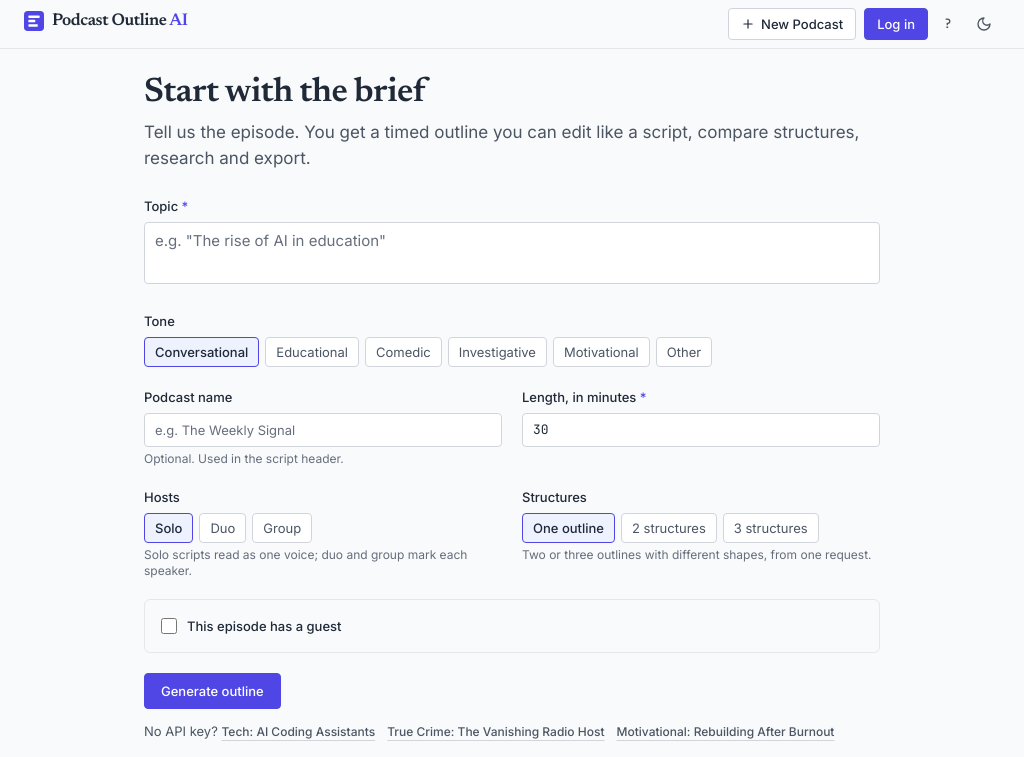
Test: + New Podcast: unsaved changes › Escape also cancels
Step 1. Type "Future of AI" into the text box labelled "Topic *" → (512, 253), box [144,222,880,284]
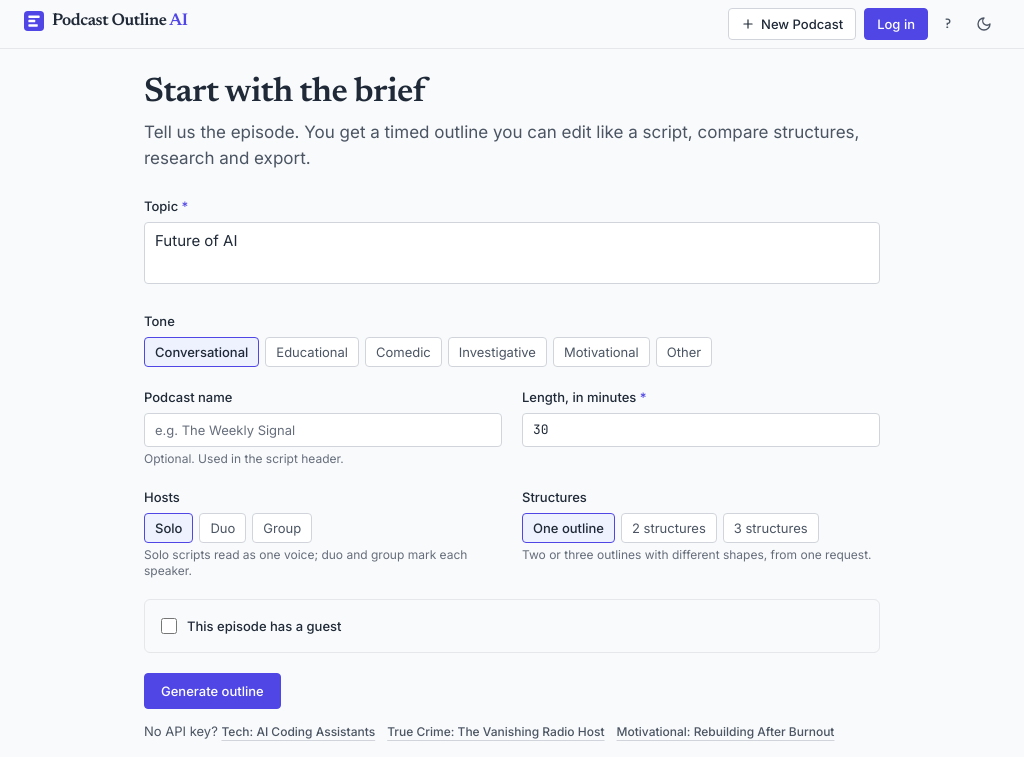
Step 2. Click the button "Generate outline" → (212, 691), box [144,673,281,709]
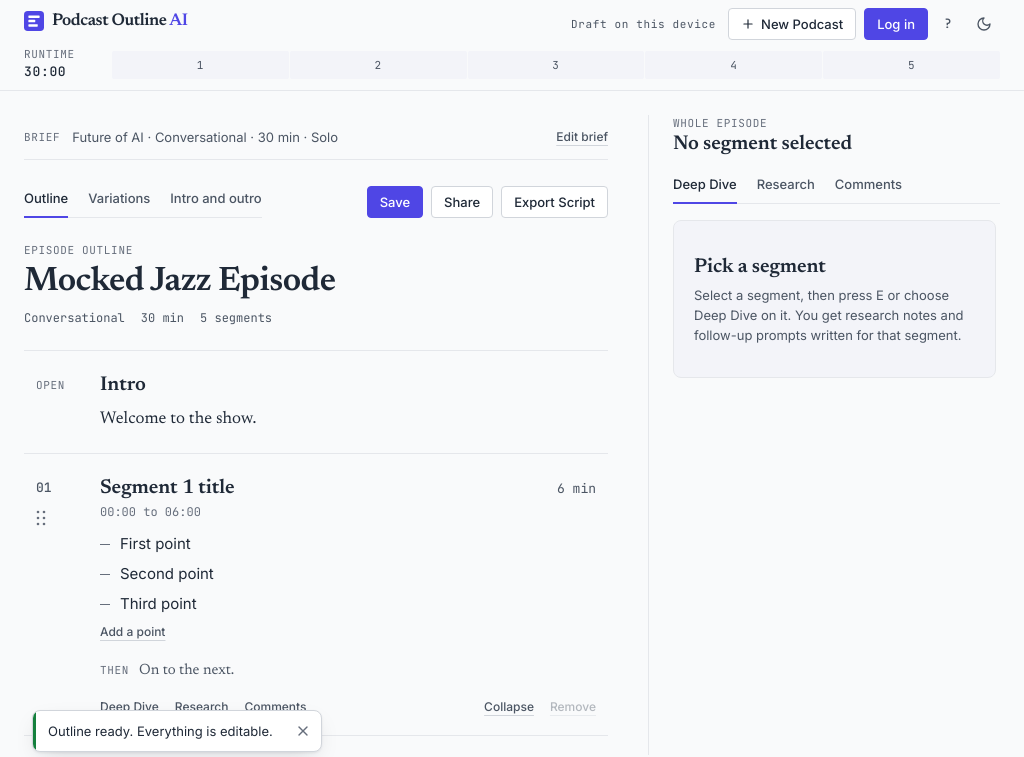
Step 3. Click the button "New Podcast" → (792, 24), box [728,8,856,40]
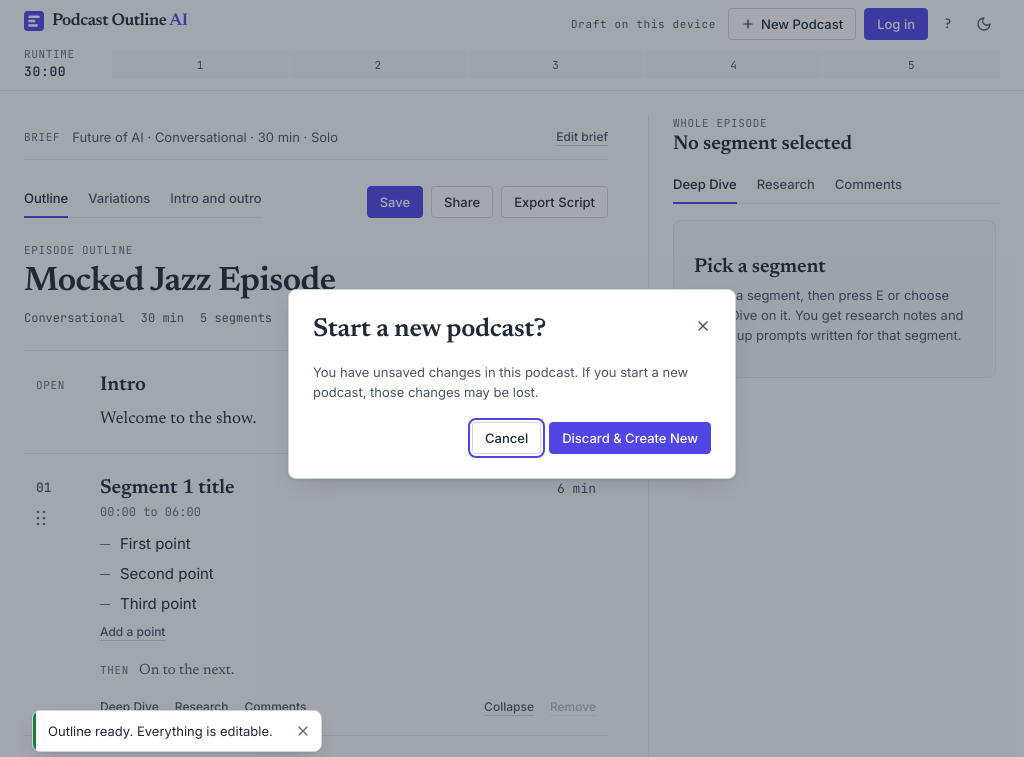
Expected: the dialog "Start a new podcast?" is shown, [288,289,736,479]
Step 4. Press Escape
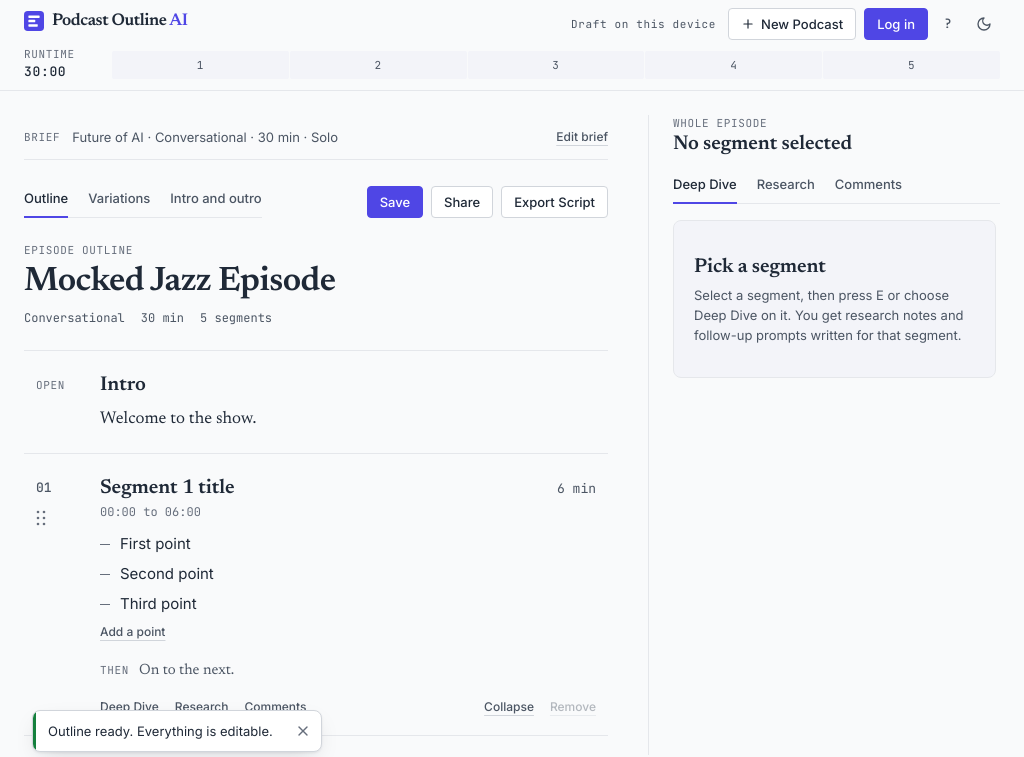
Expected: the button "Mocked Jazz Episode" is shown, [24,262,608,302]
Expected: the heading "Start a new podcast?" is gone
